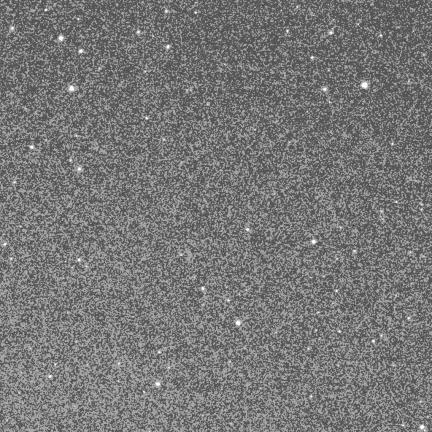blob: (362, 82, 368, 89), (69, 86, 75, 92), (323, 87, 328, 92), (79, 49, 84, 54), (236, 321, 241, 326), (59, 36, 64, 41), (137, 30, 141, 35), (329, 31, 333, 35), (156, 382, 160, 386), (166, 45, 170, 49), (246, 228, 250, 232), (420, 425, 424, 429), (372, 340, 376, 344), (312, 240, 316, 244), (338, 330, 342, 334), (311, 56, 315, 60), (335, 289, 339, 293), (30, 146, 34, 149), (165, 9, 168, 13), (3, 243, 7, 246), (146, 117, 149, 121), (49, 375, 53, 378), (286, 30, 289, 34), (14, 181, 17, 184), (45, 9, 48, 12), (78, 168, 81, 171), (202, 287, 205, 290), (10, 258, 13, 261), (11, 27, 14, 30), (408, 317, 411, 320), (118, 362, 121, 365), (78, 259, 81, 262), (227, 300, 230, 303), (158, 351, 161, 353)
